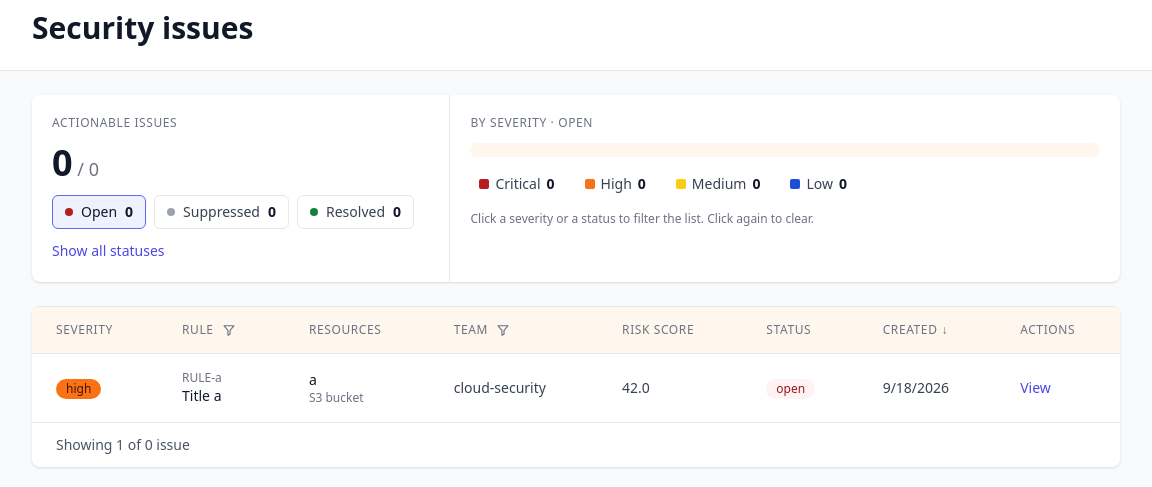
it: IssuesPage › filters by several teams from the column funnel, listing each team once
Expected: the cell "RULE-a Title a" is shown, x1=158 y1=354 x2=285 y2=422
Click the button named "Filter Team" at (503, 330), box x1=492 y1=319 x2=514 y2=341
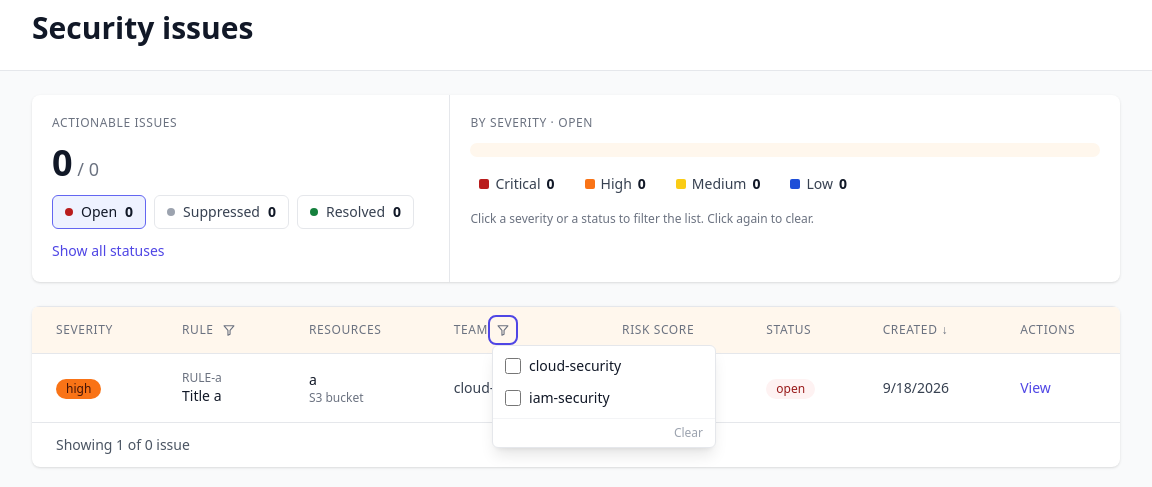
Click the checkbox labelled "cloud-security" at (513, 366), box x1=505 y1=358 x2=521 y2=374
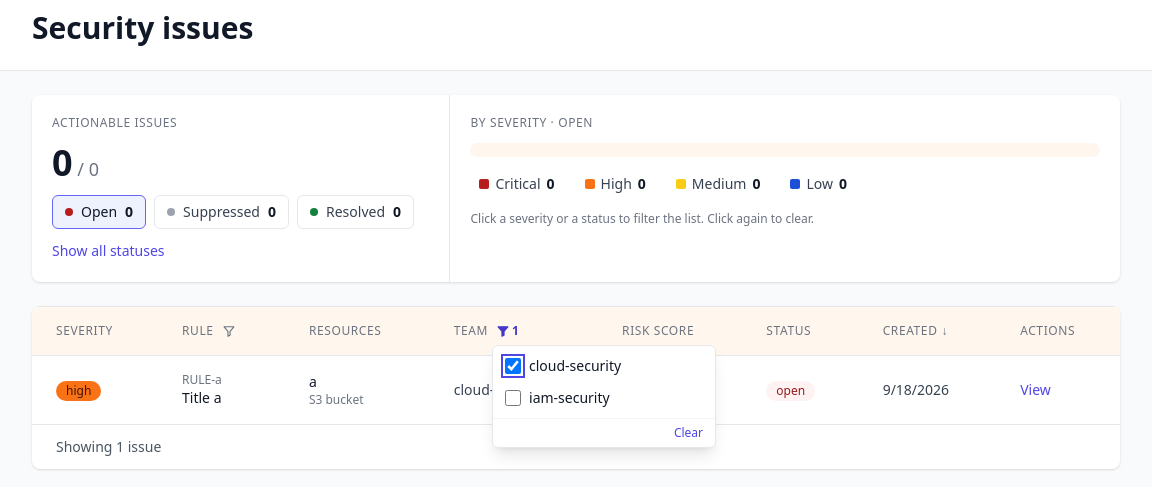
Click the checkbox labelled "iam-security" at (513, 398), box x1=505 y1=390 x2=521 y2=406
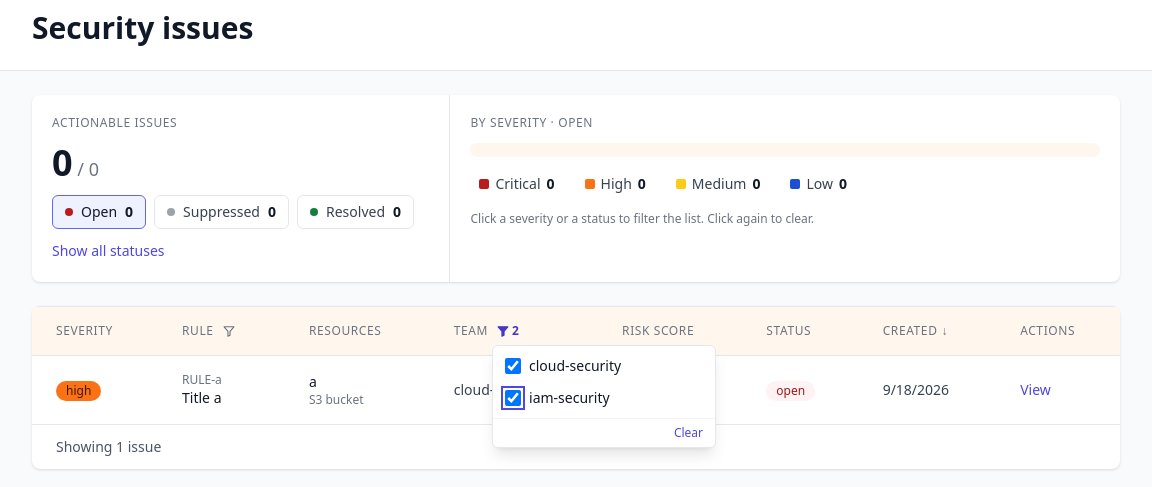
Expected: the button named "Filter Team" reads "2", x1=492 y1=319 x2=523 y2=343
